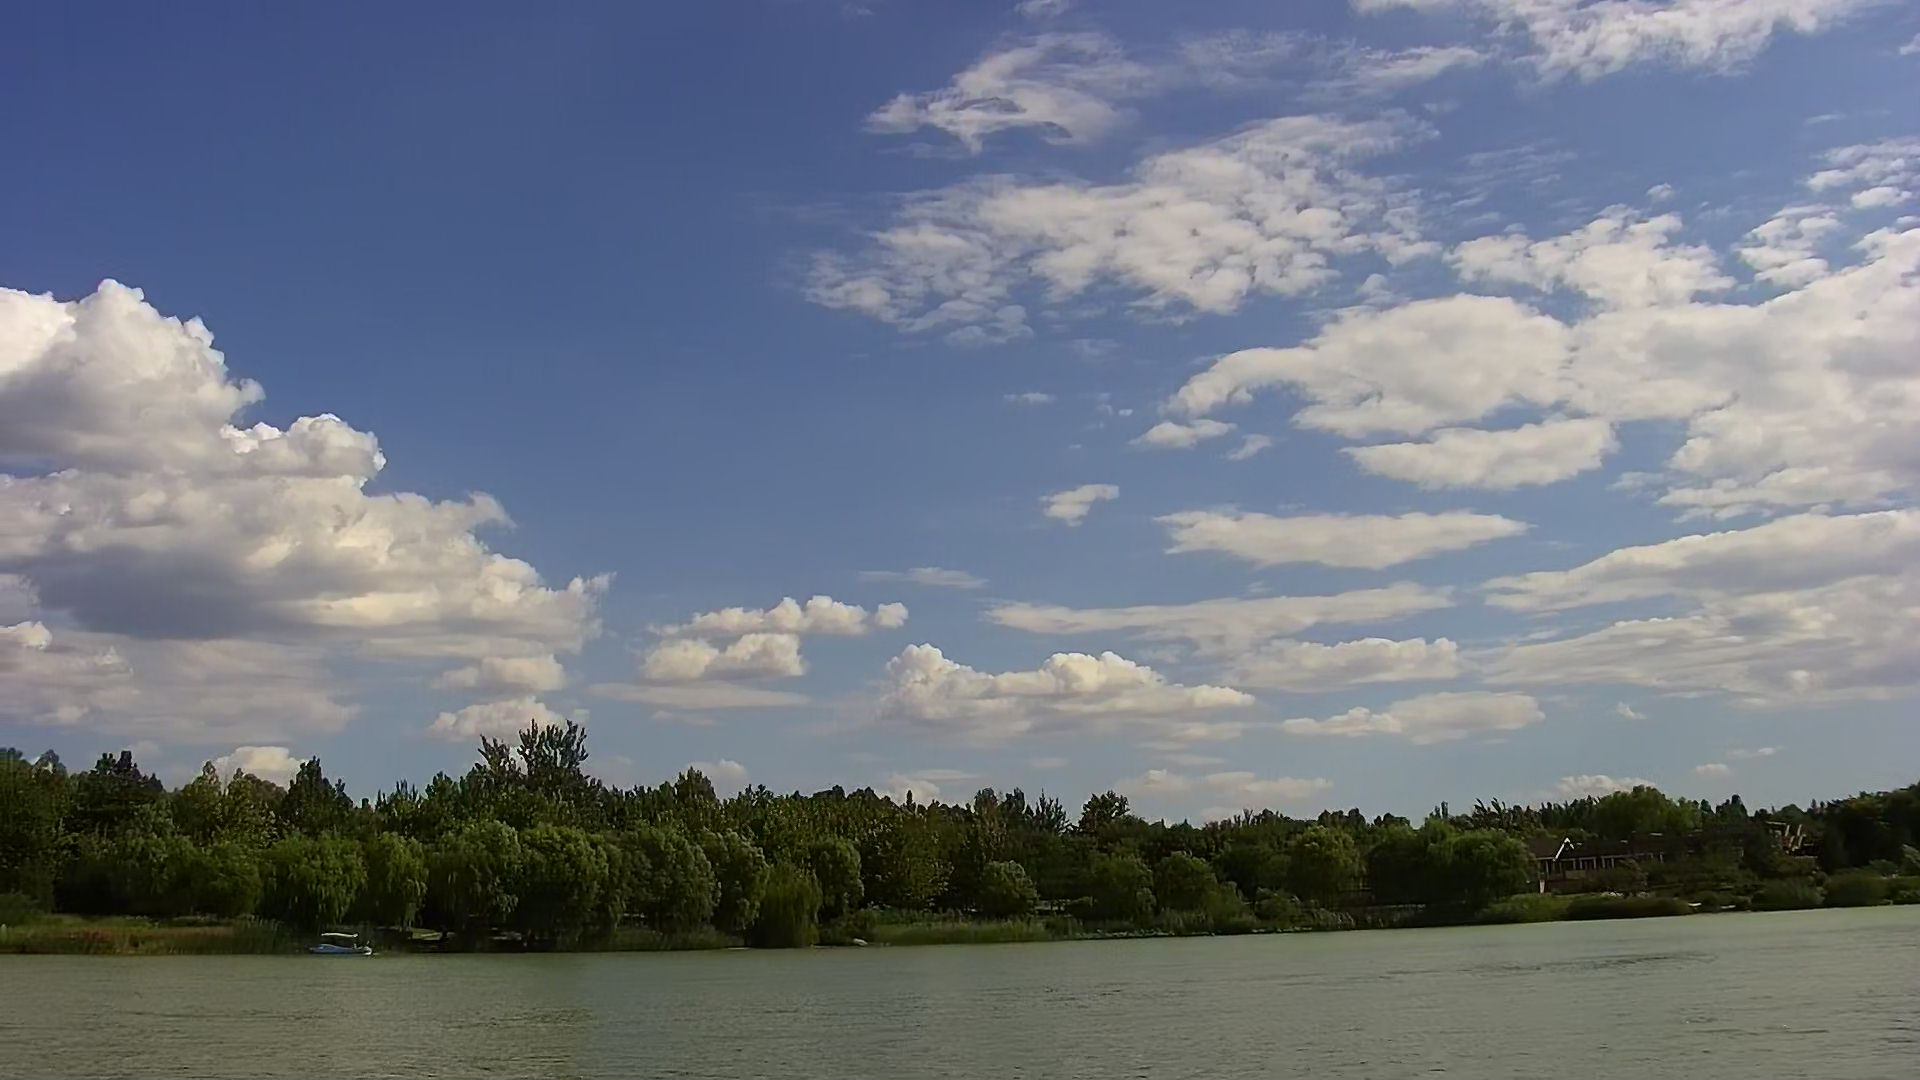boat: (302, 926, 378, 961)
